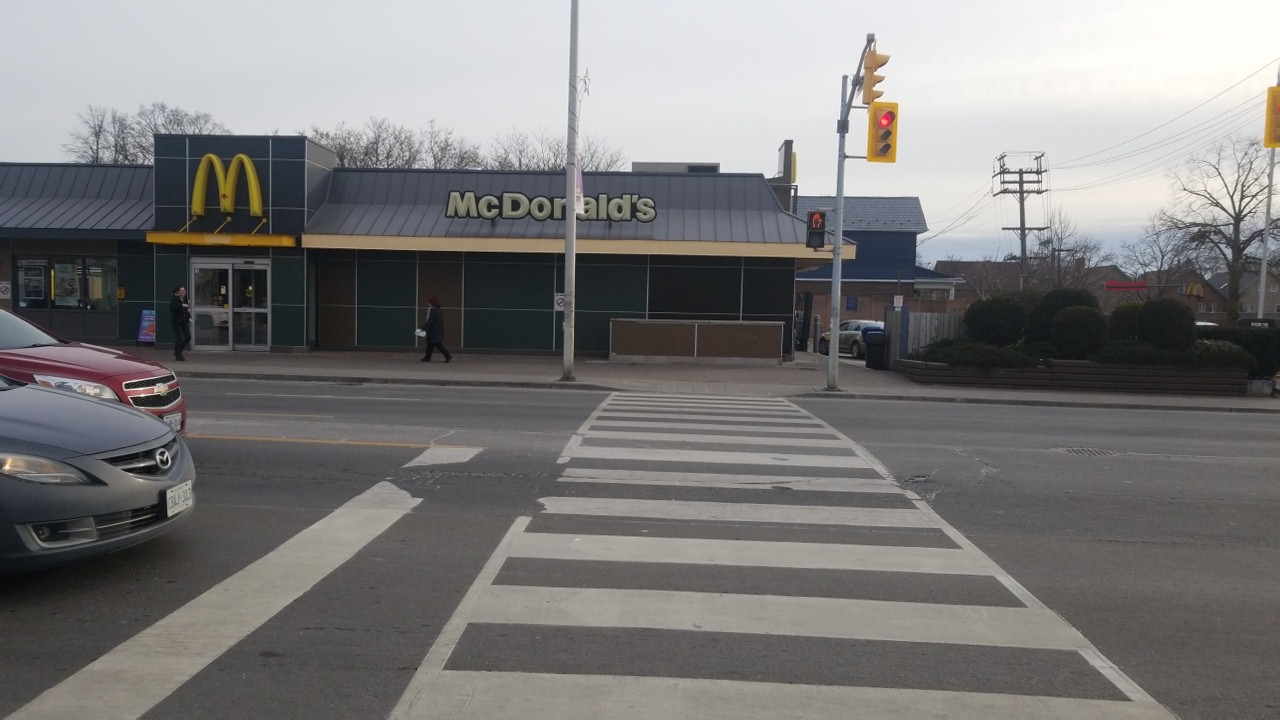light: (804, 208, 827, 248)
